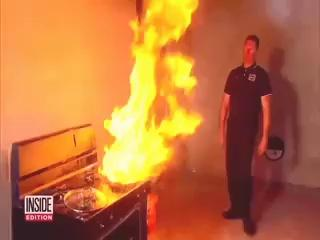Fire: (98, 1, 205, 189)
